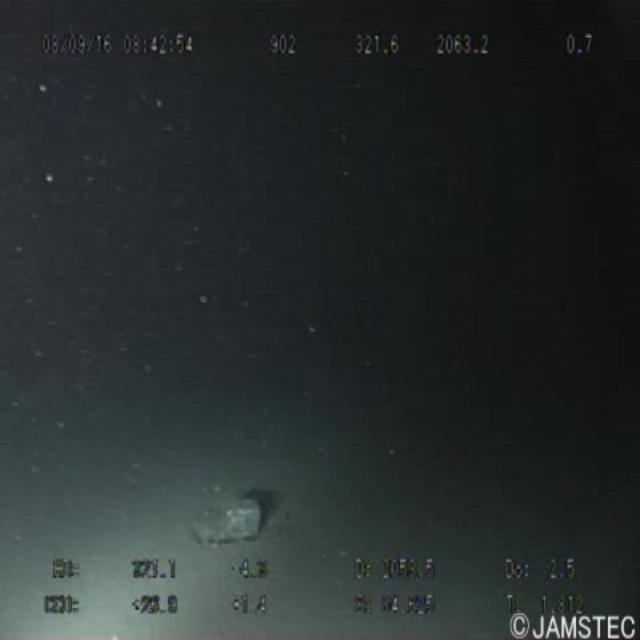Glass: (165, 470, 283, 566)
